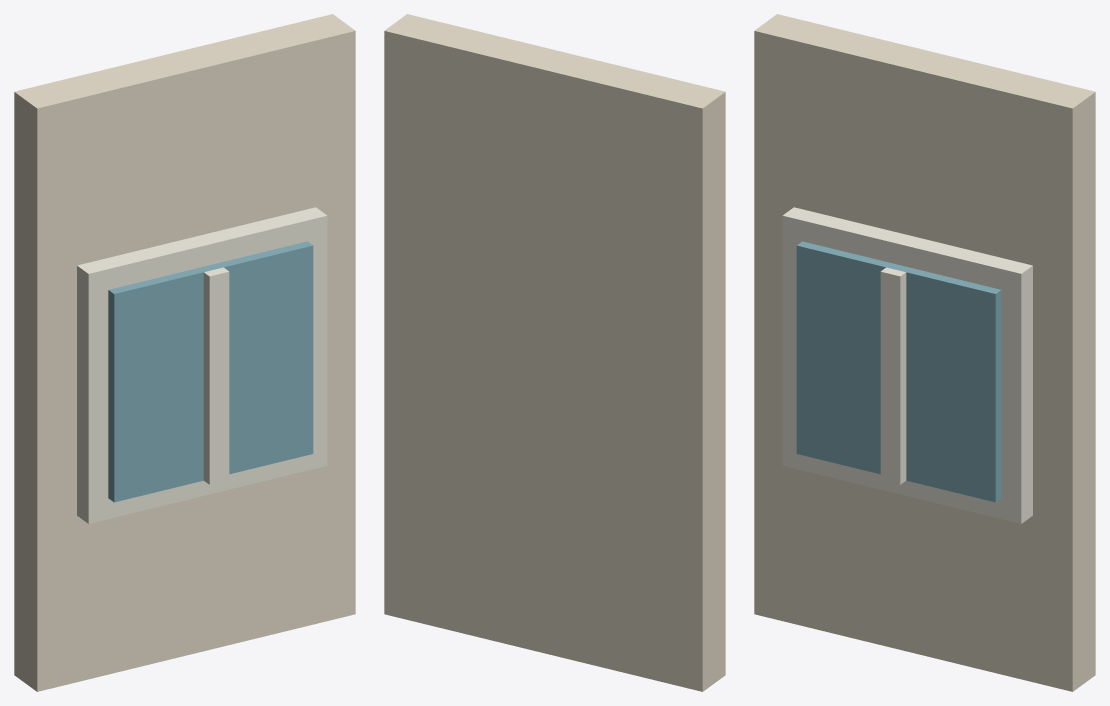
Rendered from kit_wall_window.glb.
3 views of the same model, side by side, from view 1: azimuth 30°, elevation 25°; view 2: azimuth 150°, elevation 25°; view 3: azimuth 330°, elevation 25° (orthographic).
Visible parts, largest first — view 1: kit_wall_window-col; view 2: kit_wall_window-col; view 3: kit_wall_window-col.
Boxes of the visible parts, x1,y1,x2,y2 form: kit_wall_window-col: (14,14,355,691); kit_wall_window-col: (384,14,725,691); kit_wall_window-col: (754,14,1095,691).
Size of the model in its own units: 2 by 3.5 by 0.5.
